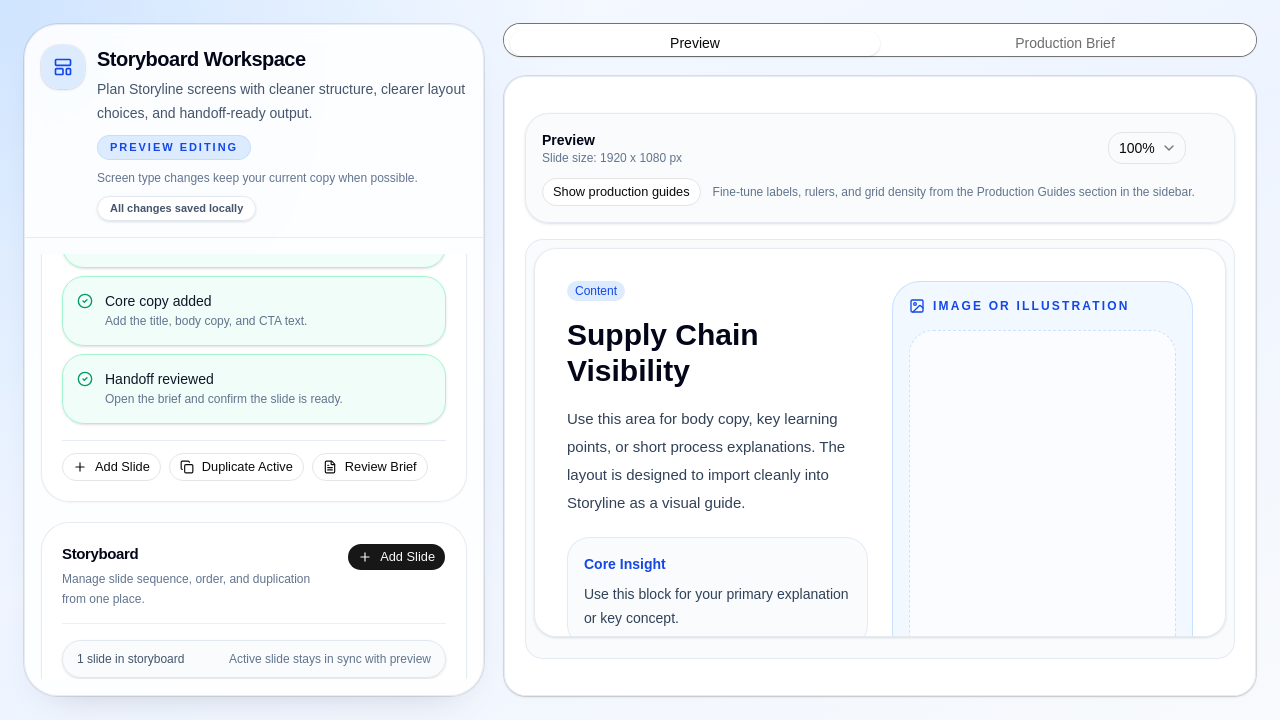
Test: StorylineLayoutGenerator › removes the slide after confirming in the dialog
(page scrolled)
Step 1. Click the button "Add Slide" below "Handoff reviewed" → (111, 467), box [62, 453, 161, 481]
(page scrolled)
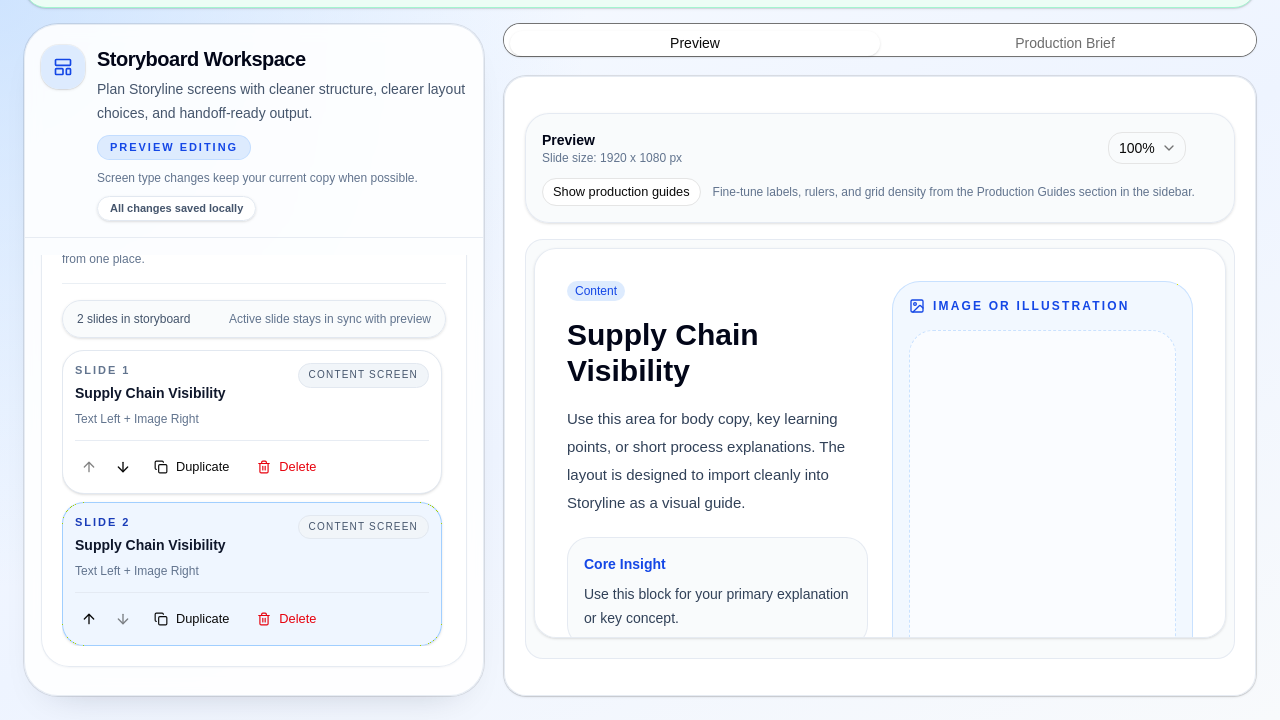
Result: the text "2 slides in storyboard" is shown at [77, 311, 190, 327]
Step 2. Click the 1st button "Delete" → (287, 467), box [246, 453, 327, 481]
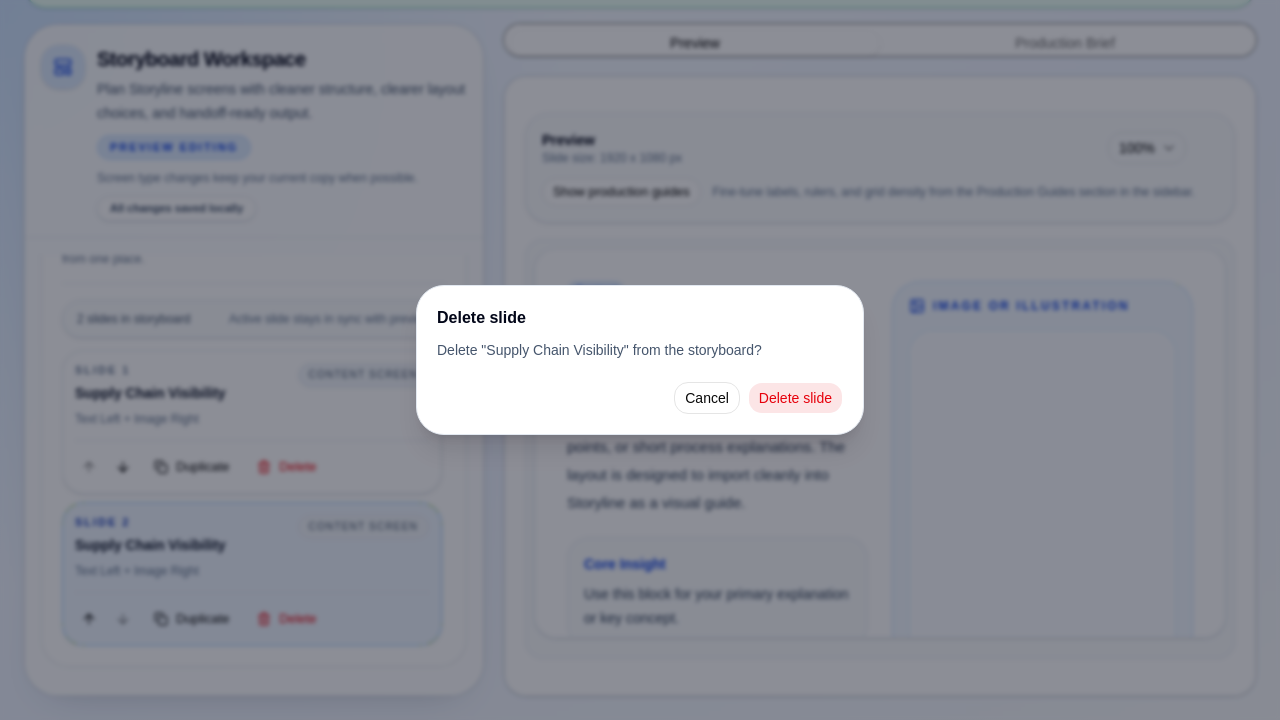
Step 3. Click the button "Delete slide" → (795, 398), box [748, 382, 843, 414]
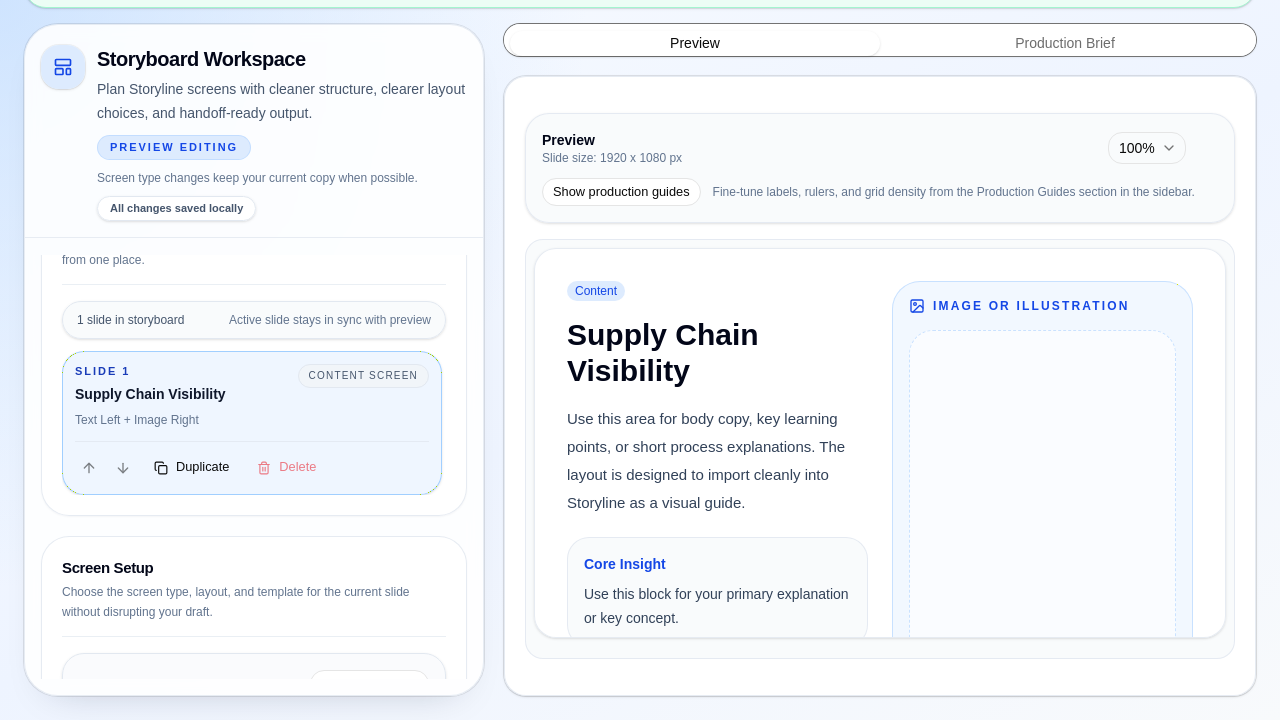
Result: the heading "Delete slide" is gone
Result: the text "1 slide in storyboard" is shown at [77, 312, 184, 328]
